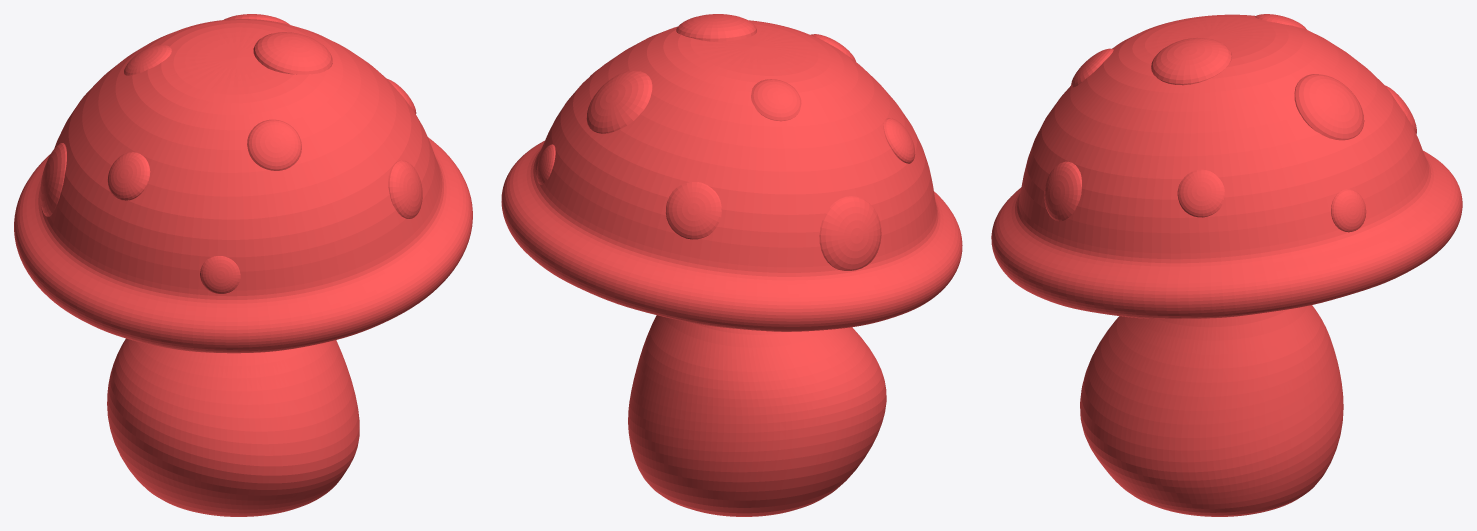
File: mushroom_edited_blender.obj
3 renders of one model, left to right at view 1: azimuth 30°, elevation 25°; view 2: azimuth 150°, elevation 25°; view 3: azimuth 270°, elevation 25°, orthographic. The views are drawn at different scales.
Parts seen in each view (by area): view 1: mushroom_edited; view 2: mushroom_edited; view 3: mushroom_edited.
Part boxes in pixels (x1,y1,x2,y2): mushroom_edited: (14, 14, 472, 516); mushroom_edited: (501, 14, 962, 516); mushroom_edited: (991, 14, 1462, 516).
Size of the model in its own units: 1.01 by 1.08 by 1.01.
